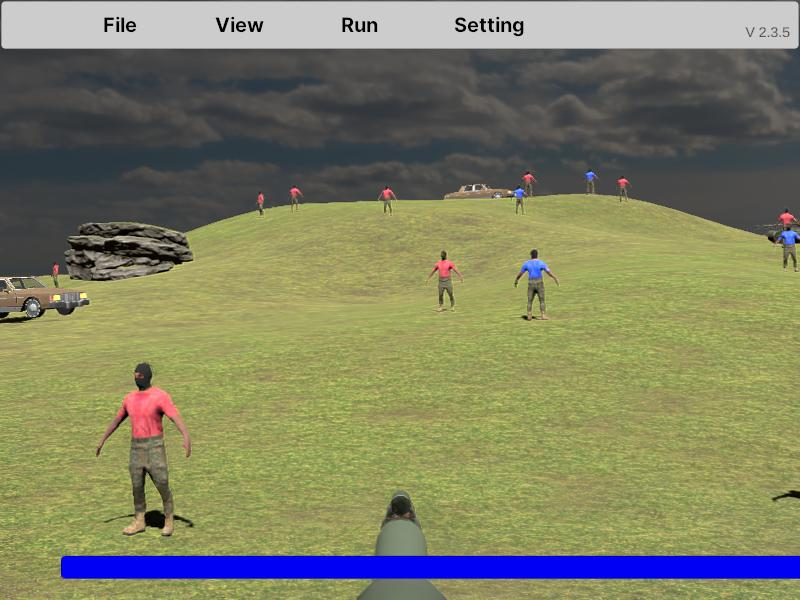Human: (96, 362, 191, 538), (514, 249, 559, 321), (515, 248, 559, 321), (428, 251, 463, 312), (774, 223, 800, 273)
car: (0, 275, 89, 321), (444, 183, 512, 204)
